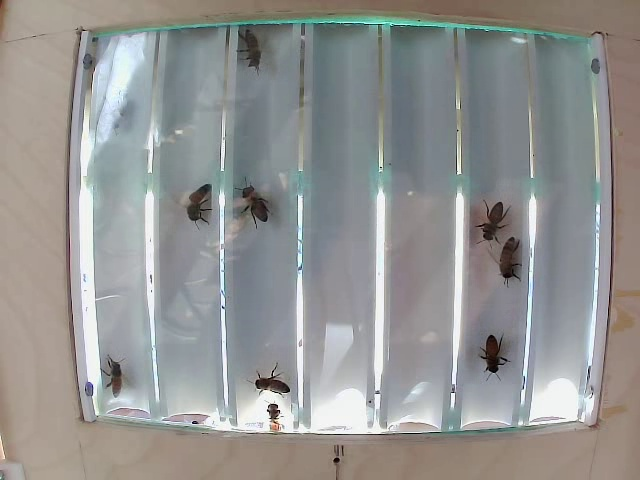bee: (177, 183, 226, 227), (239, 21, 277, 69), (239, 174, 275, 224), (497, 236, 525, 286), (480, 201, 506, 253), (475, 327, 505, 371), (101, 360, 130, 398), (241, 366, 282, 391)
